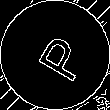P_NW: (24, 26, 86, 84)
